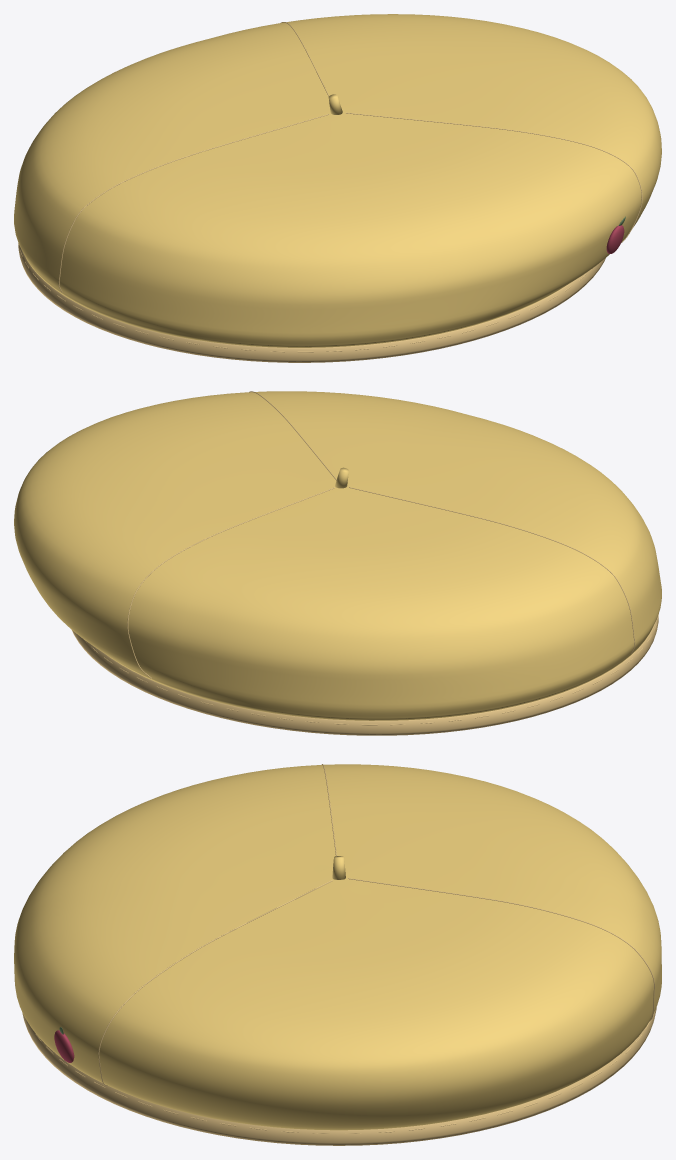
3 renders of one model, top to bottom at view 1: azimuth 30°, elevation 25°; view 2: azimuth 150°, elevation 25°; view 3: azimuth 270°, elevation 25°, orthographic. The views are drawn at different scales.
Visible parts, largest first — view 1: Head_mesh; view 2: Head_mesh; view 3: Head_mesh.
Part boxes in pixels (left/top/right/bottom): Head_mesh: left=14, top=14, right=661, bottom=362; Head_mesh: left=14, top=391, right=661, bottom=735; Head_mesh: left=14, top=764, right=661, bottom=1145.
Bounding box in the file's own units: 0.8072 × 0.1882 × 0.7009.
